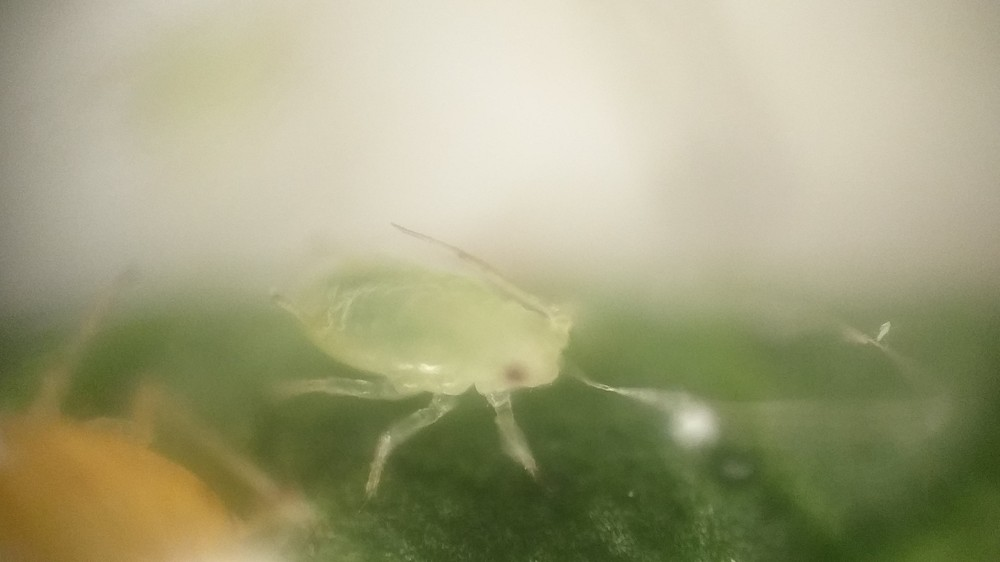Pulgon: (259, 238, 609, 498)
